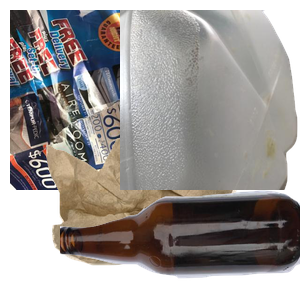glass: (60, 188, 300, 300)
paper: (10, 10, 250, 190)
plastic: (120, 10, 300, 190)
trash: (44, 136, 277, 300)
